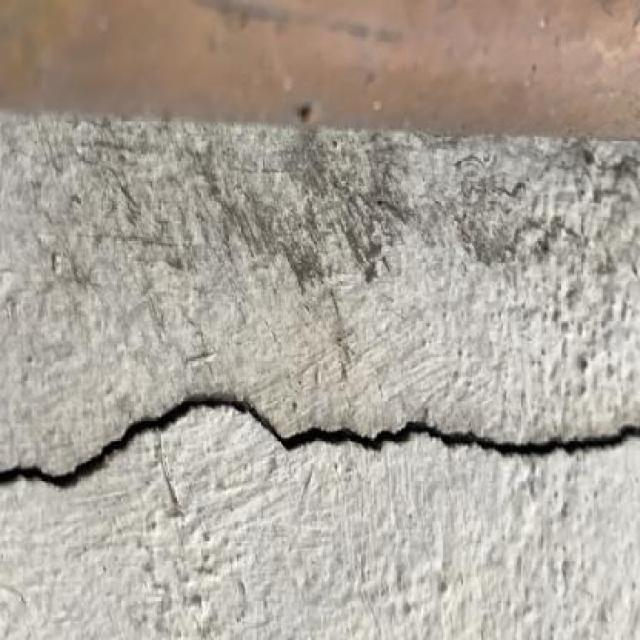horizontal crack: (0, 396, 640, 489)
